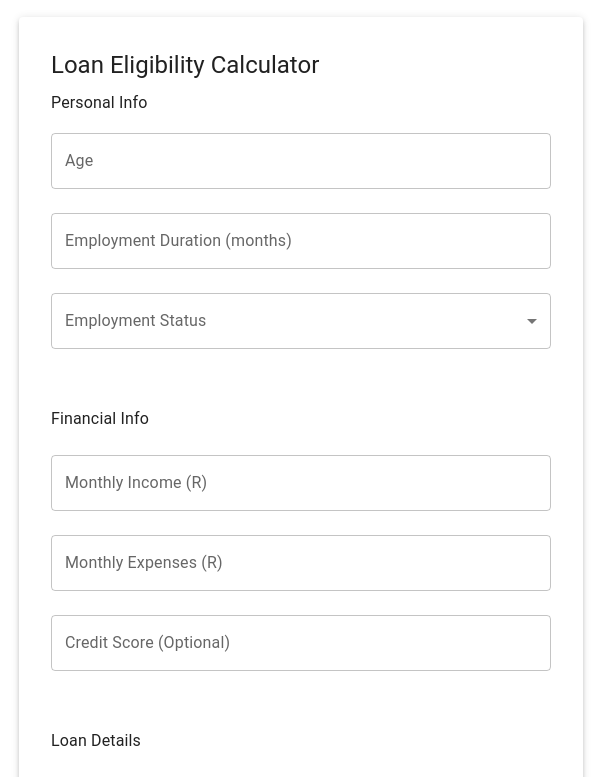
it: LoanForm › renders select options with proper capitalization
Press the mouse on the dropdown named "Employment Status" at (301, 321), box [51,293,551,349]
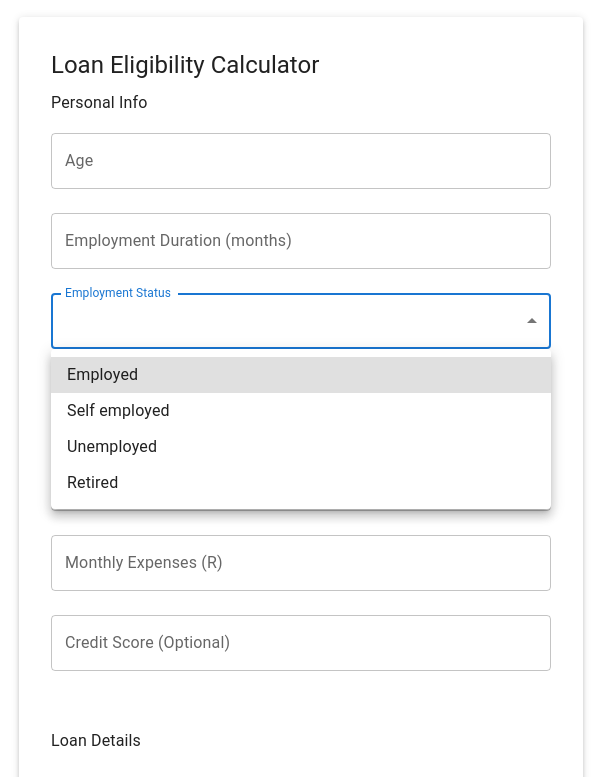
Now the option "Employed" is shown, box [51,357,551,393]
Now the option "Self employed" is shown, box [67,401,170,420]
Now the option "Unemployed" is shown, box [67,437,157,456]
